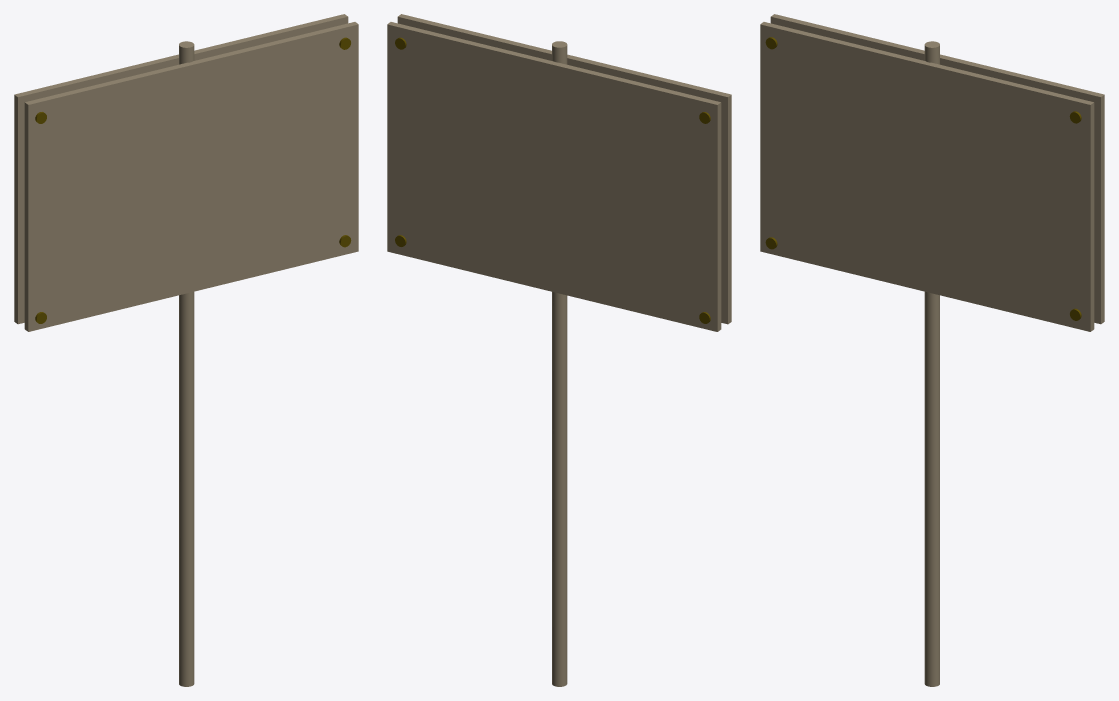
The model's file is flag.fbx.
The picture shows the model from 3 angles, left to right: view 1: azimuth 30°, elevation 25°; view 2: azimuth 150°, elevation 25°; view 3: azimuth 330°, elevation 25°; orthographic projection.
Parts seen in each view (by area): view 1: pCube2, pCylinder1, pCube1; view 2: pCube1, pCylinder1, pCube2; view 3: pCube2, pCylinder1, pCube1.
Boxes of the visible parts, box(x1,y1,x2,y2) form: pCube2: box(24, 22, 358, 331); pCylinder1: box(179, 41, 194, 686); pCube1: box(14, 14, 348, 324); pCube1: box(387, 22, 721, 331); pCylinder1: box(552, 41, 567, 686); pCube2: box(397, 14, 731, 324); pCube2: box(760, 22, 1094, 331); pCylinder1: box(924, 41, 939, 686); pCube1: box(770, 14, 1104, 324).
Size of the model in its own units: 3.83 by 7.08 by 0.3336.
